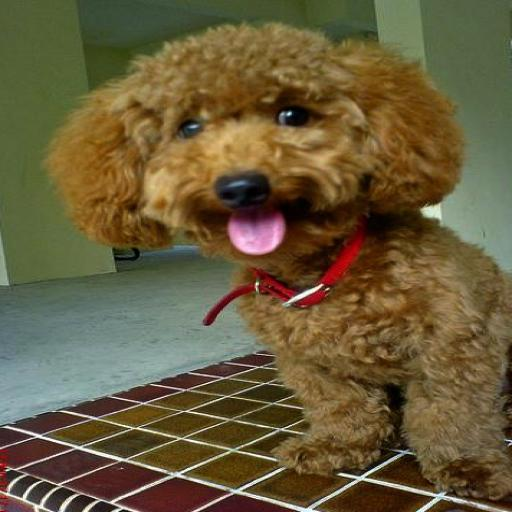dog_face: (49, 26, 460, 256)
